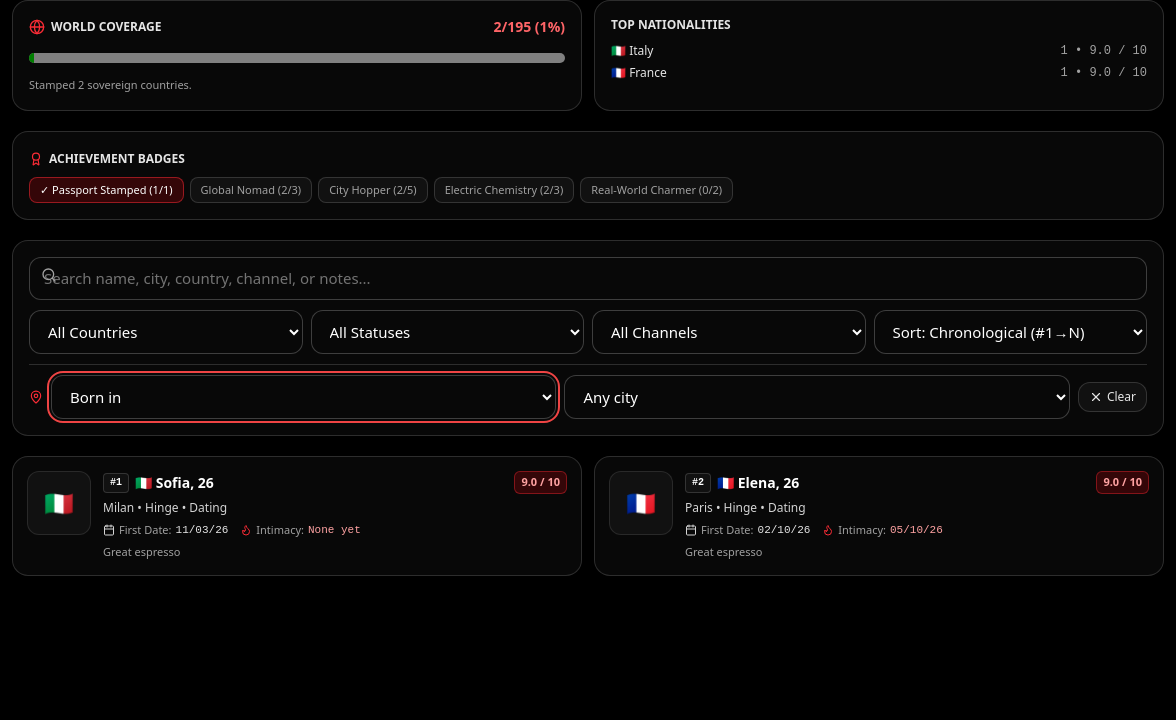
PokedexDashboard › filters Pokédex cards by birthCity, livingCity, and metCity and resets with Clear
Earlier steps of the test are not shown.
Step 1. Select "Lyon" in the dropdown with test id "pokedex-city-value" → (817,397), box [564, 375, 1070, 419]
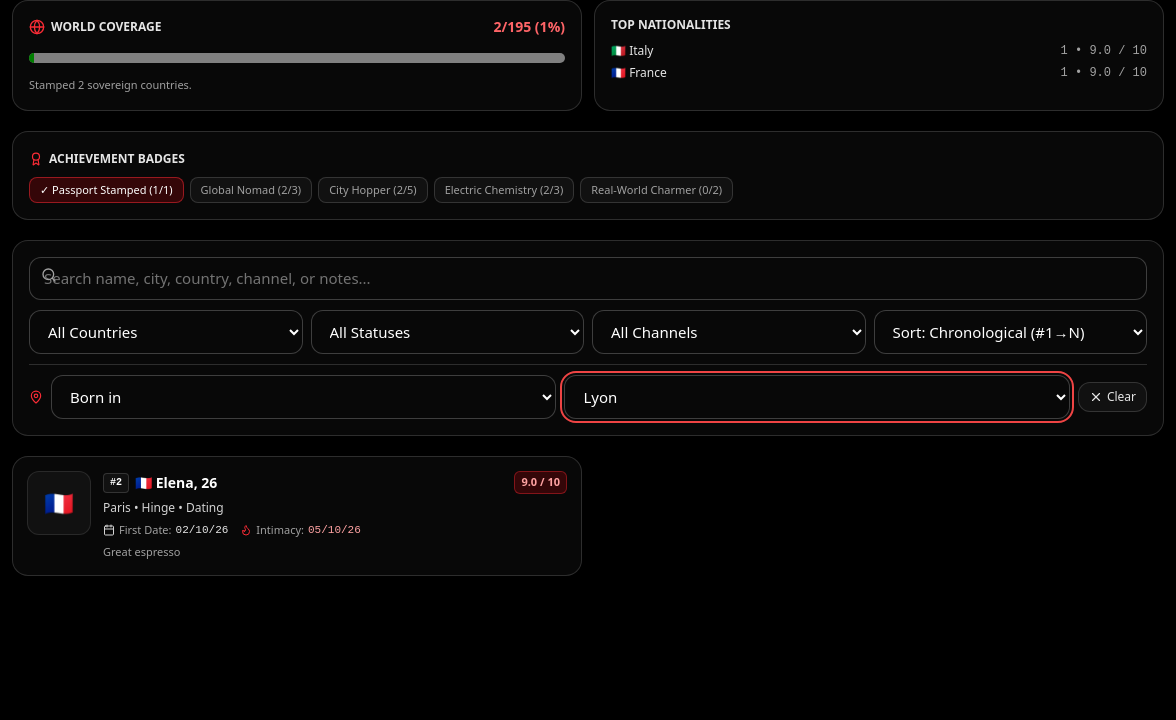
Expected: the element with test id "pokedex-cards" shows "Elena", [12, 456, 582, 576]
Expected: the element with test id "pokedex-cards" no longer shows "Sofia", [12, 456, 582, 576]
Step 2. Select "Lives in" in the dropdown with test id "pokedex-city-dimension" → (304,397), box [51, 375, 556, 419]
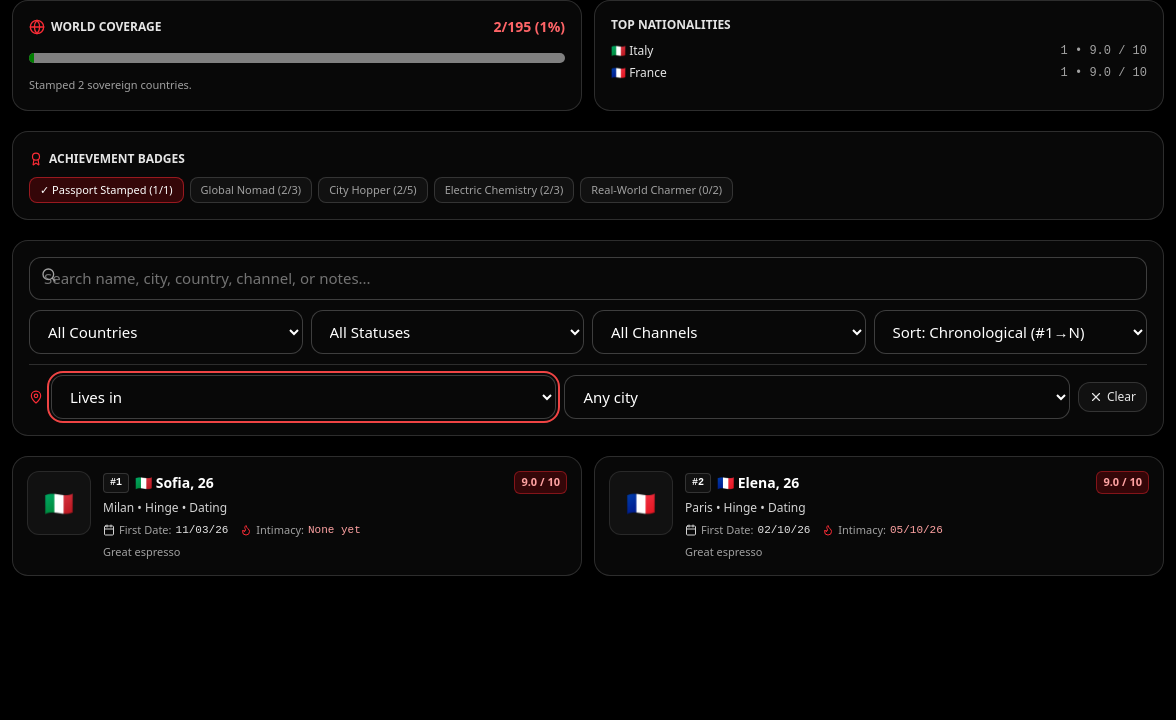
Step 3. Select "London" in the dropdown with test id "pokedex-city-value" → (817,397), box [564, 375, 1070, 419]
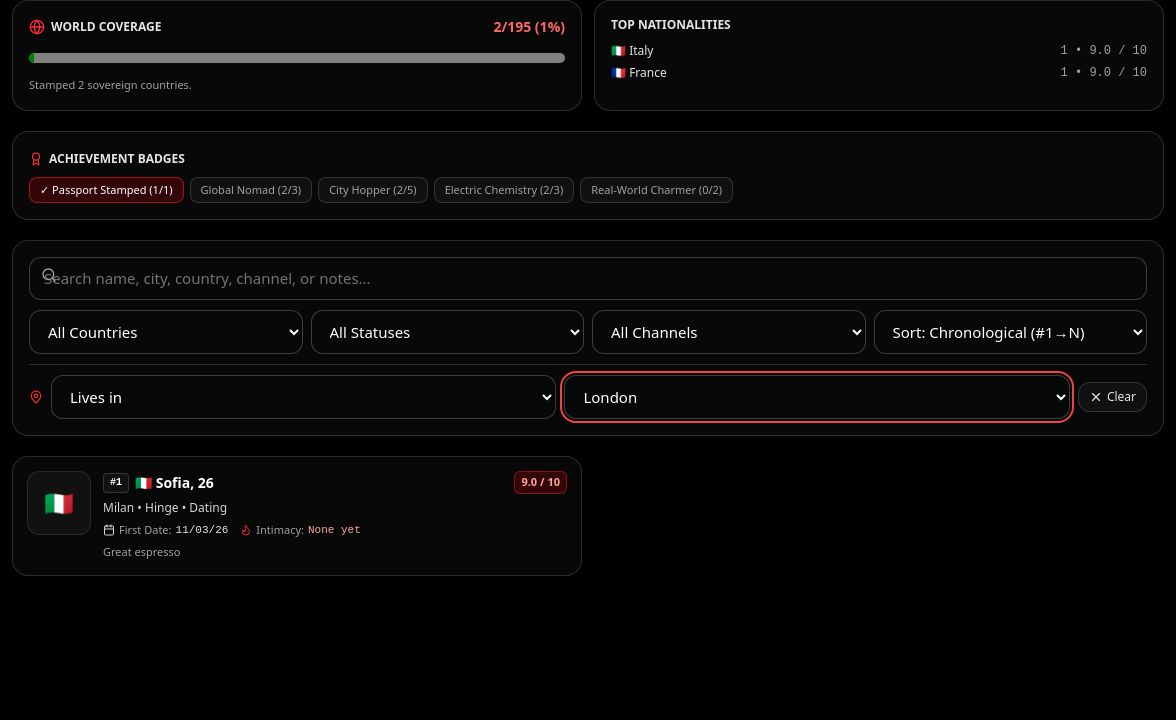
Expected: the element with test id "pokedex-cards" does not show "Elena", [12, 456, 582, 576]
Expected: the element with test id "pokedex-cards" shows "Sofia", [12, 456, 582, 576]
Step 4. Select "Met in" in the dropdown with test id "pokedex-city-dimension" → (304,397), box [51, 375, 556, 419]
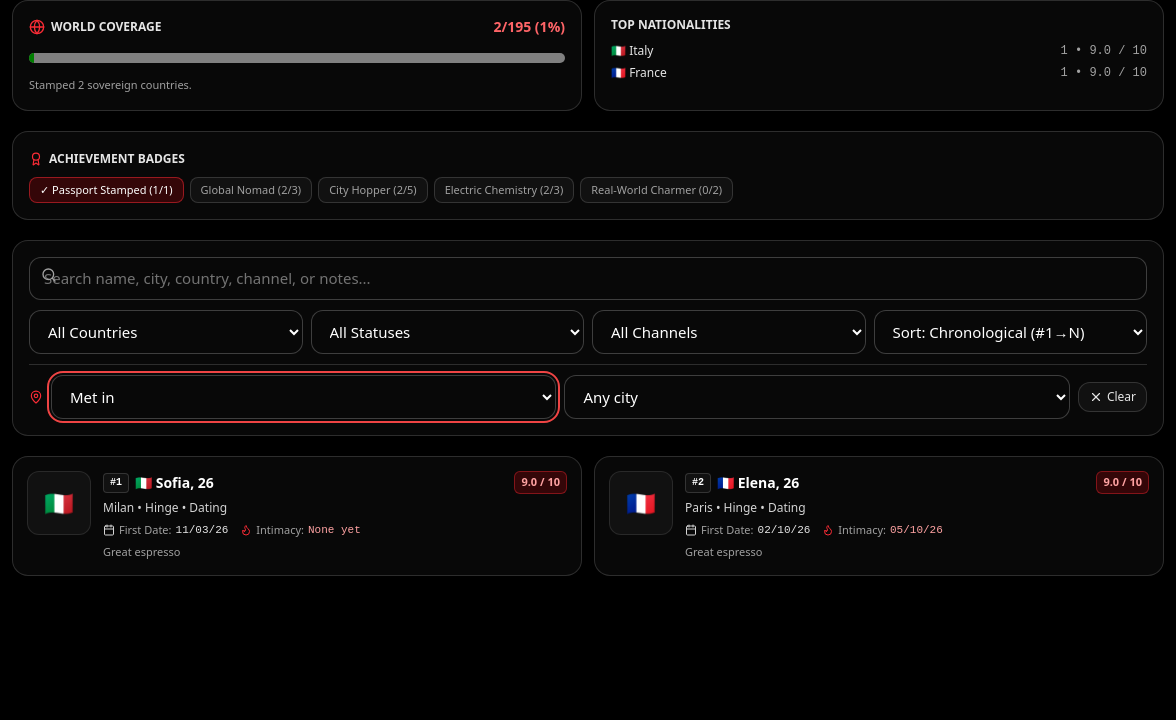
Step 5. Select "Madrid" in the dropdown with test id "pokedex-city-value" → (817,397), box [564, 375, 1070, 419]
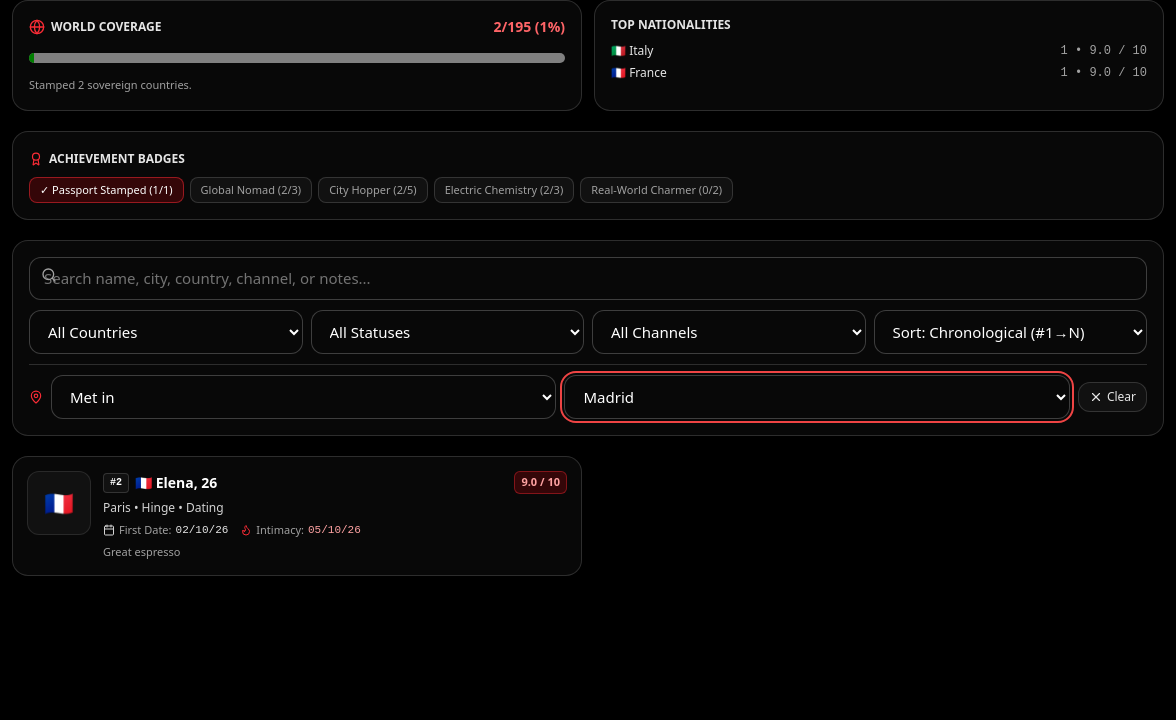
Expected: the element with test id "pokedex-cards" shows "Elena", [12, 456, 582, 576]
Expected: the element with test id "pokedex-cards" no longer shows "Sofia", [12, 456, 582, 576]
# Clear resets back to both entries
Step 6. Click the button with test id "pokedex-city-filter-clear" → (1112,397), box [1078, 382, 1147, 412]
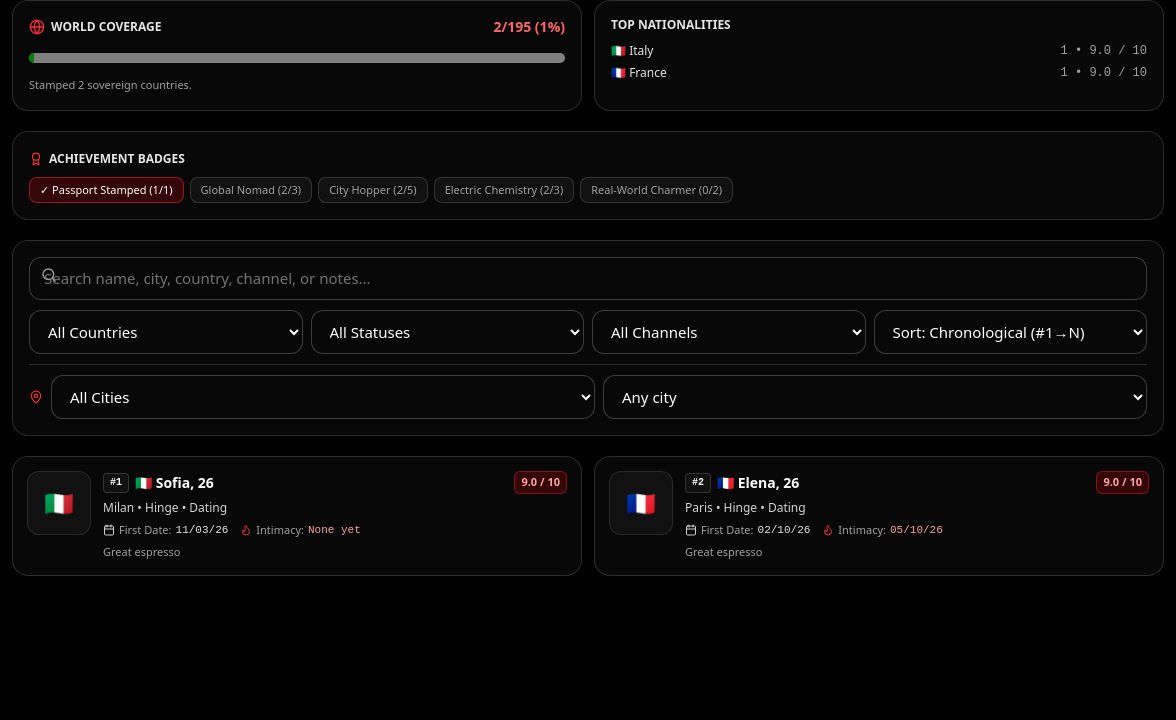
Expected: the element with test id "pokedex-cards" shows "Sofia", [12, 456, 582, 576]
